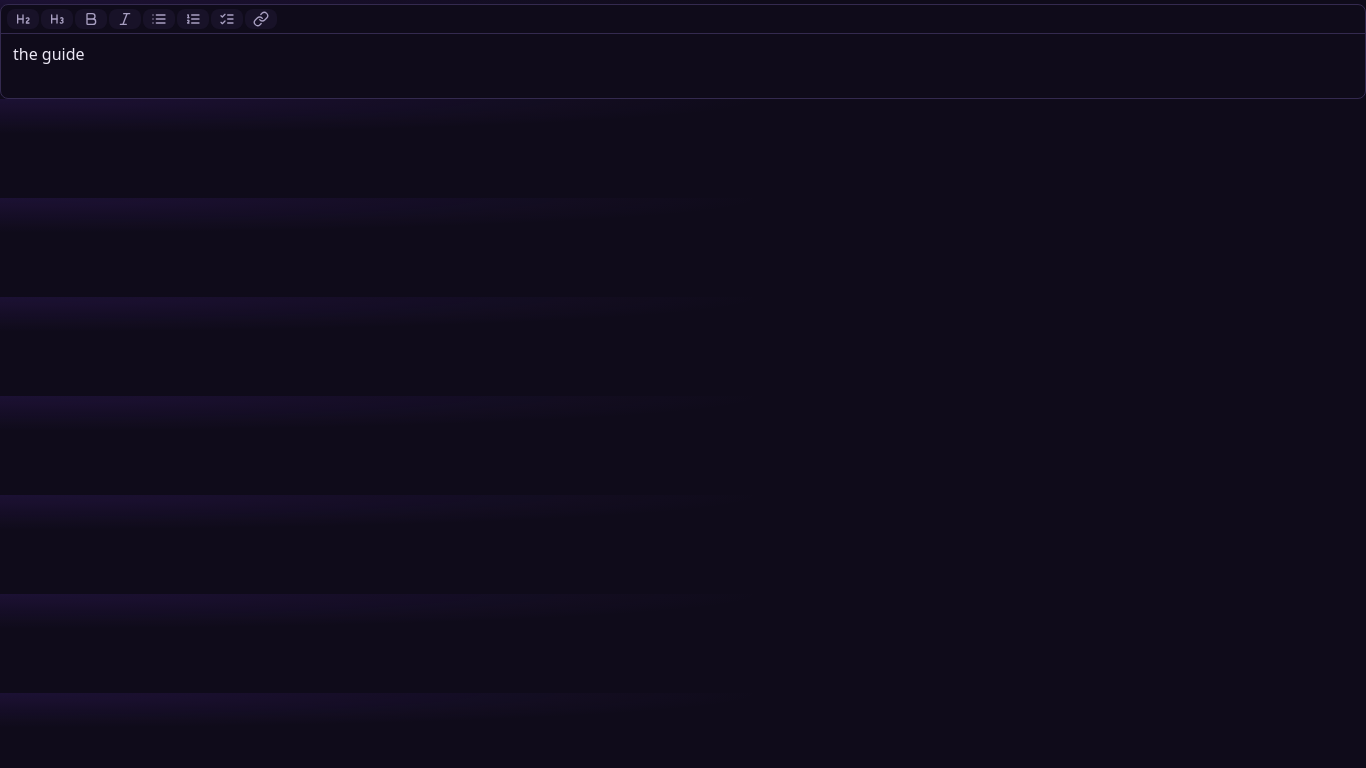
Test: RichTextEditor › links the selection from the link address box
Step 1. Click the button named "Link" → coordinates (261, 19), box [245,9,277,29]
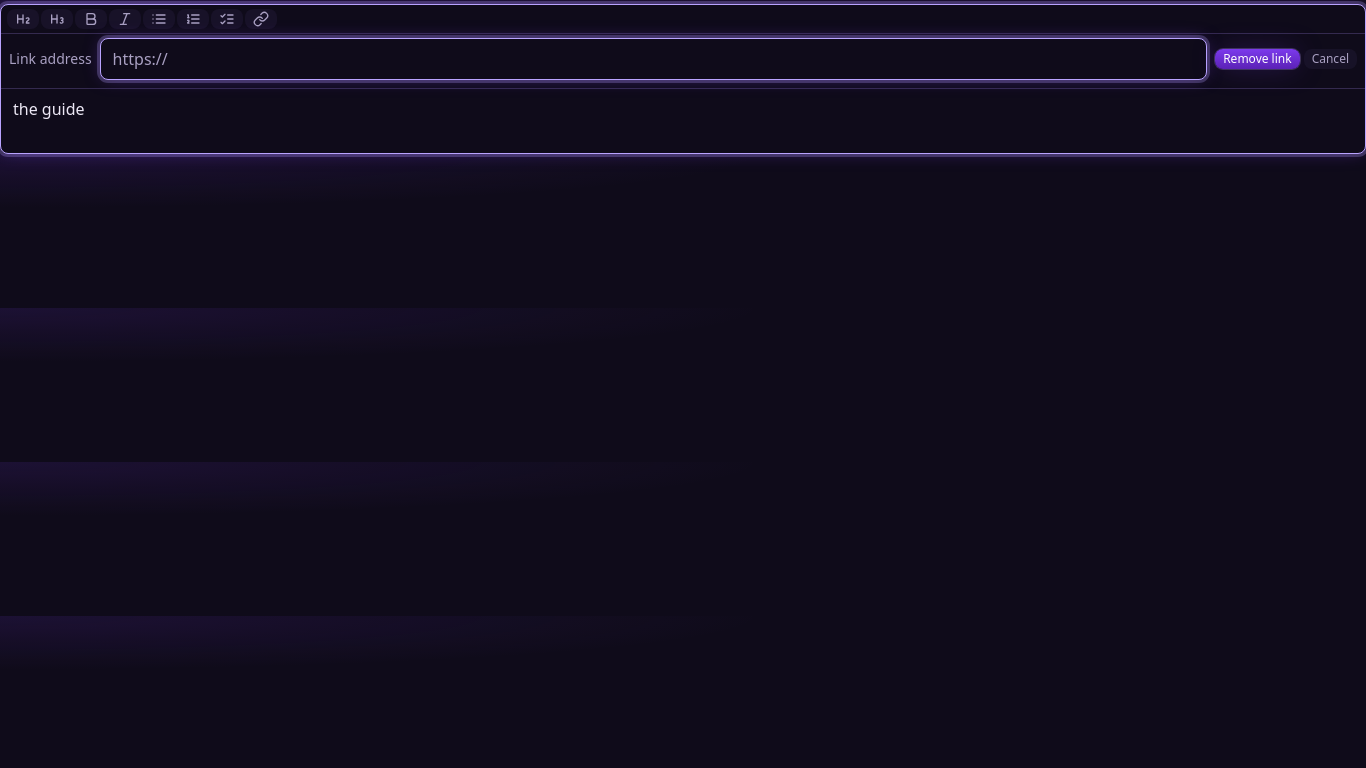
Step 2. Type "https://example.com" into the field with id "notes-href" → coordinates (653, 59), box [100,38,1207,80]
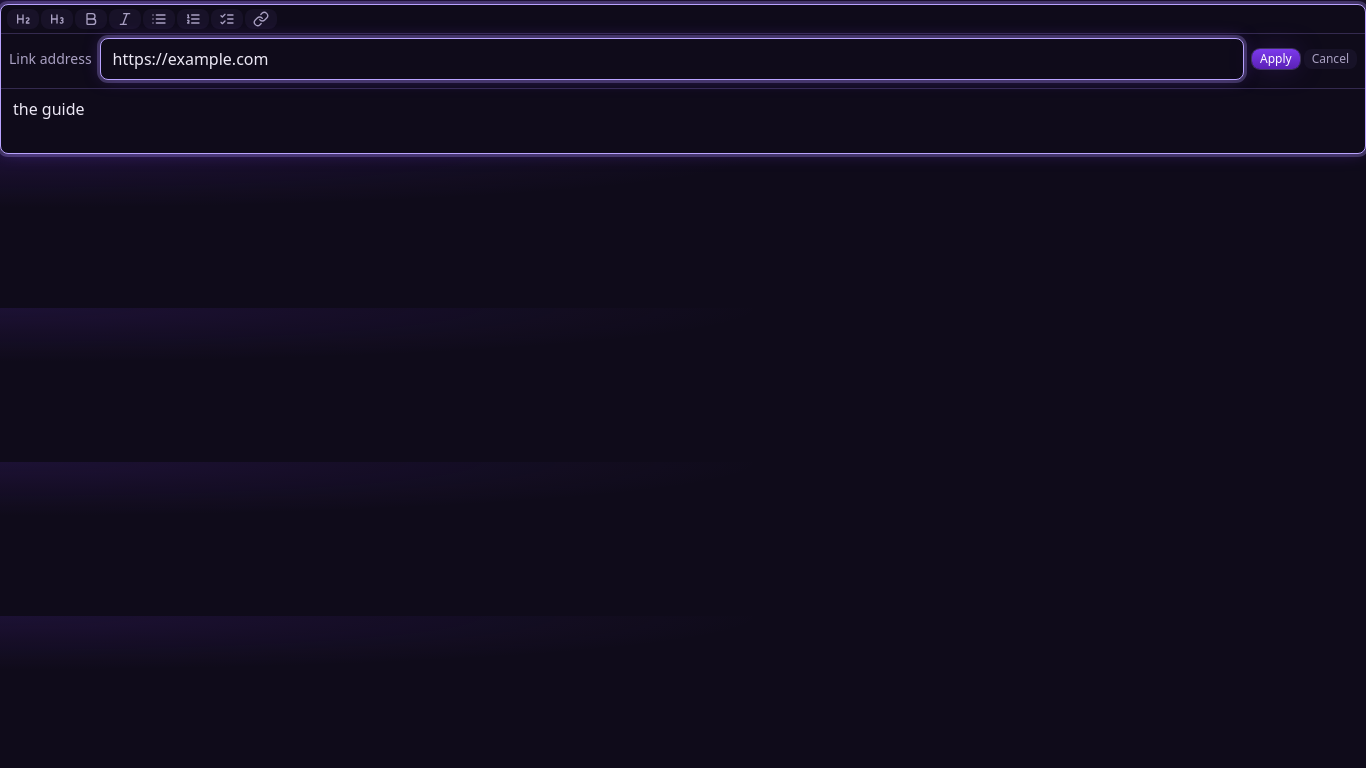
Step 3. Press Enter in the field with id "notes-href", box [100,38,1244,80]
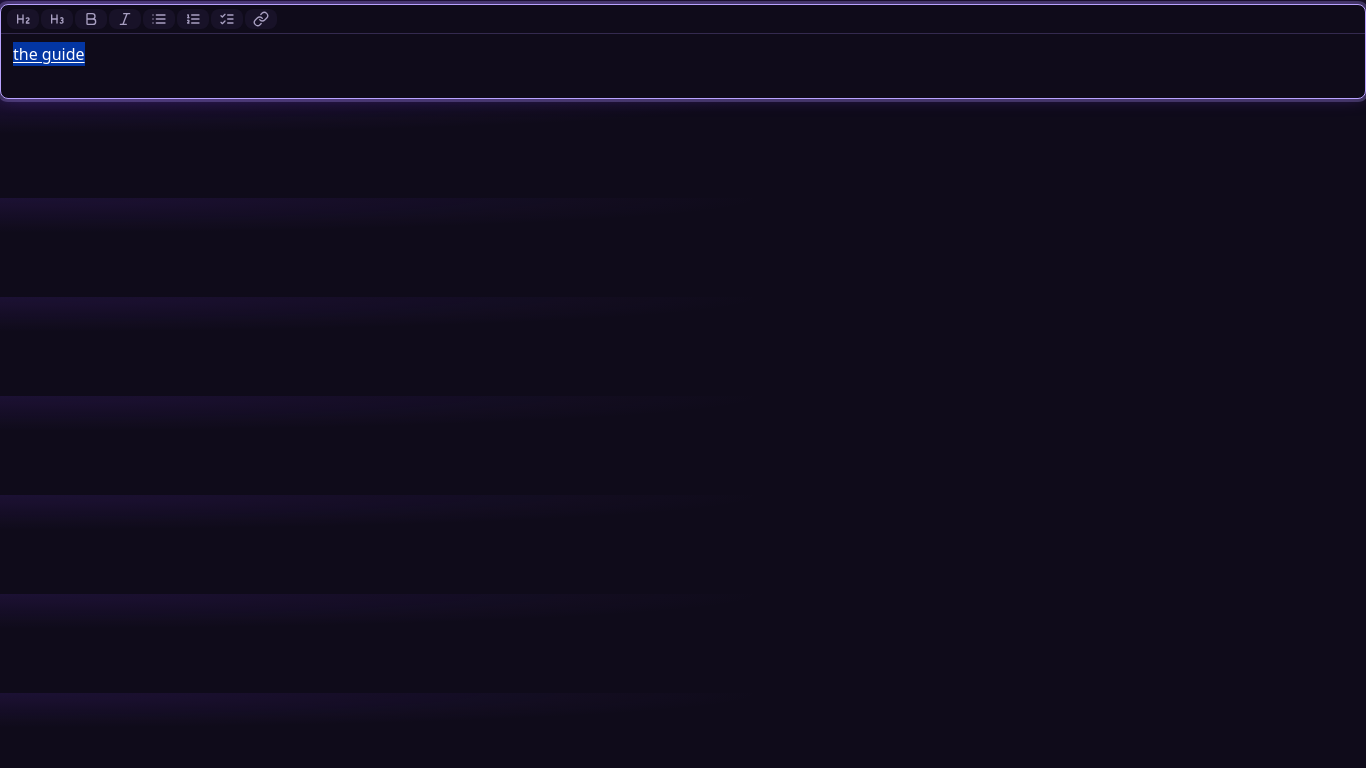
Check: the label with id "notes-href" is gone
